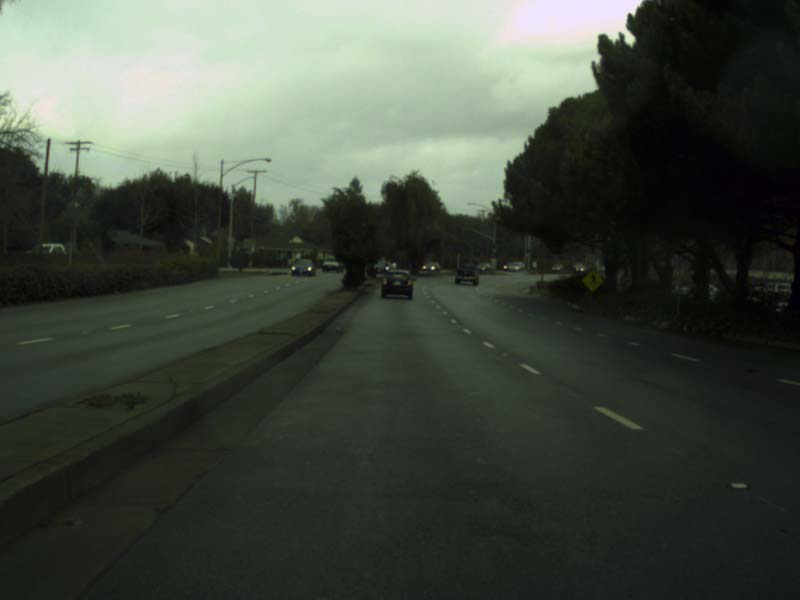Green: (492, 244, 496, 253)
